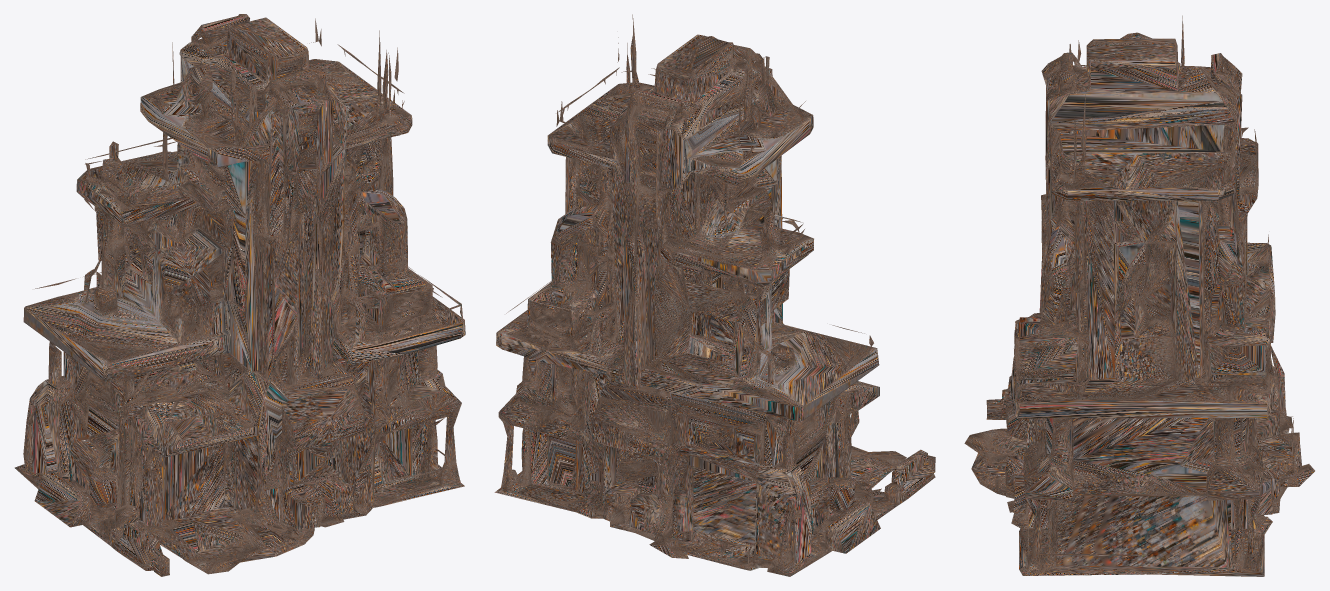
The model's file is industrial_tower.glb.
3 views of the same model, side by side, from view 1: azimuth 30°, elevation 25°; view 2: azimuth 150°, elevation 25°; view 3: azimuth 270°, elevation 25° (orthographic). The views are drawn at different scales.
Visible parts, largest first — view 1: world; view 2: world; view 3: world.
Boxes of the visible parts, box(x1,y1,x2,y2) form: world: box(14, 14, 465, 576); world: box(494, 14, 935, 576); world: box(964, 15, 1314, 576).
Size of the model in its own units: 1.58 by 1.99 by 1.38.
1 material, 1 textured.
